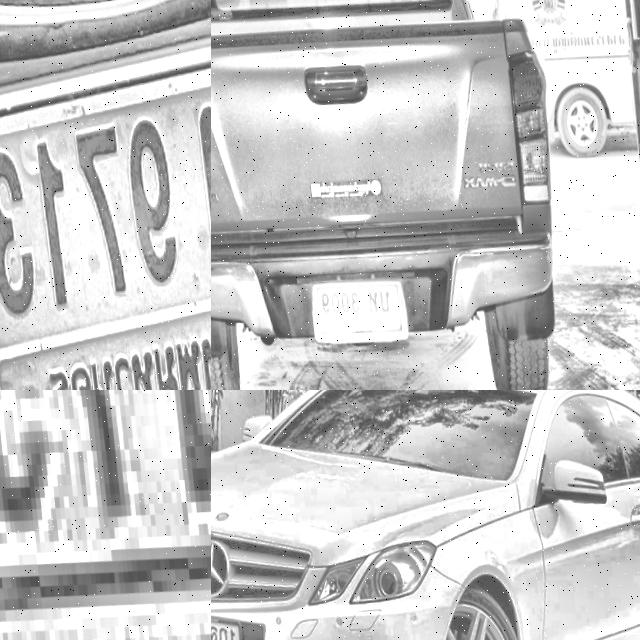license-plate: (0, 0, 211, 390), (0, 390, 211, 640), (309, 269, 406, 342), (211, 596, 244, 640)
